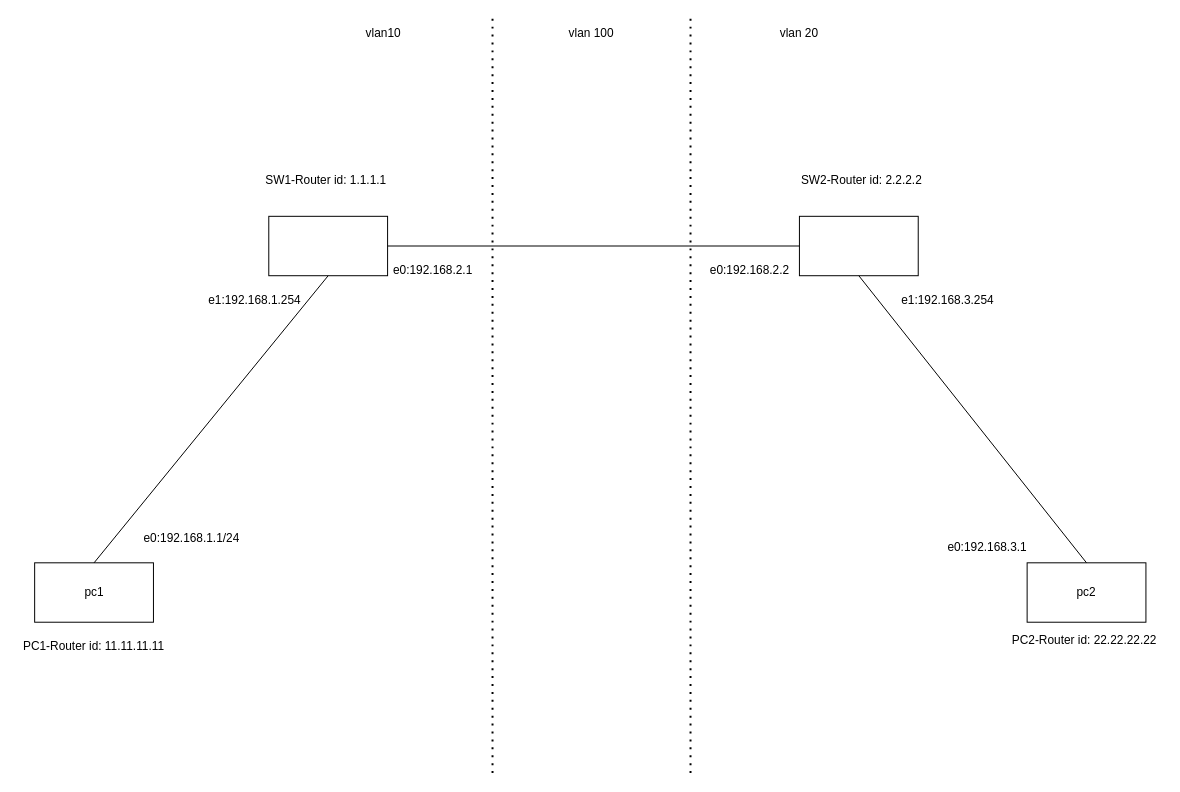
Image size: 1180x792. Some labels were removed from this diagram. The centre of each missing label's shape, as x and y in pixels:
sw1: [328,245]
sw2: [858,245]
